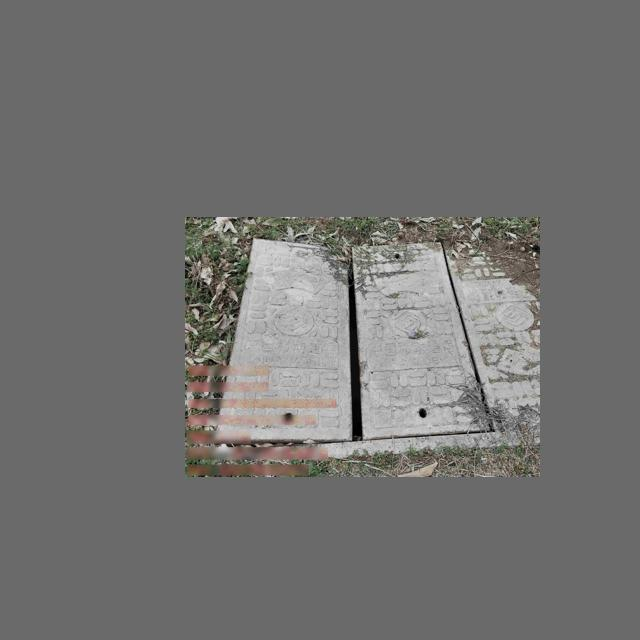uncovered: (222, 231, 459, 439)
